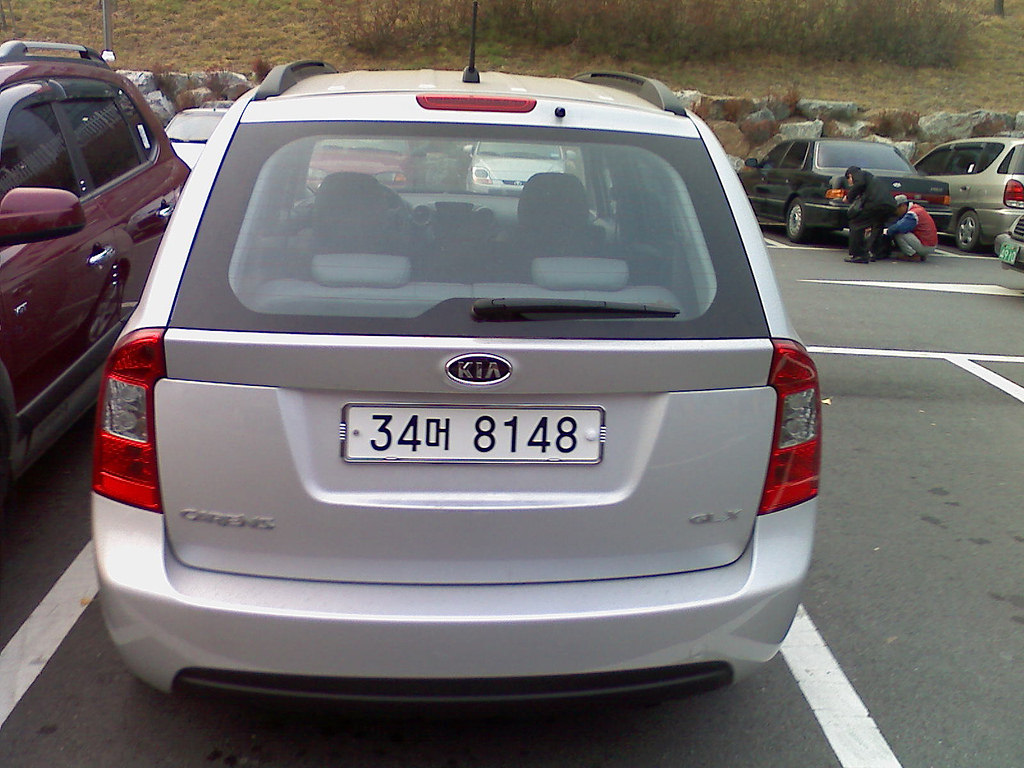plate: (346, 406, 601, 461)
